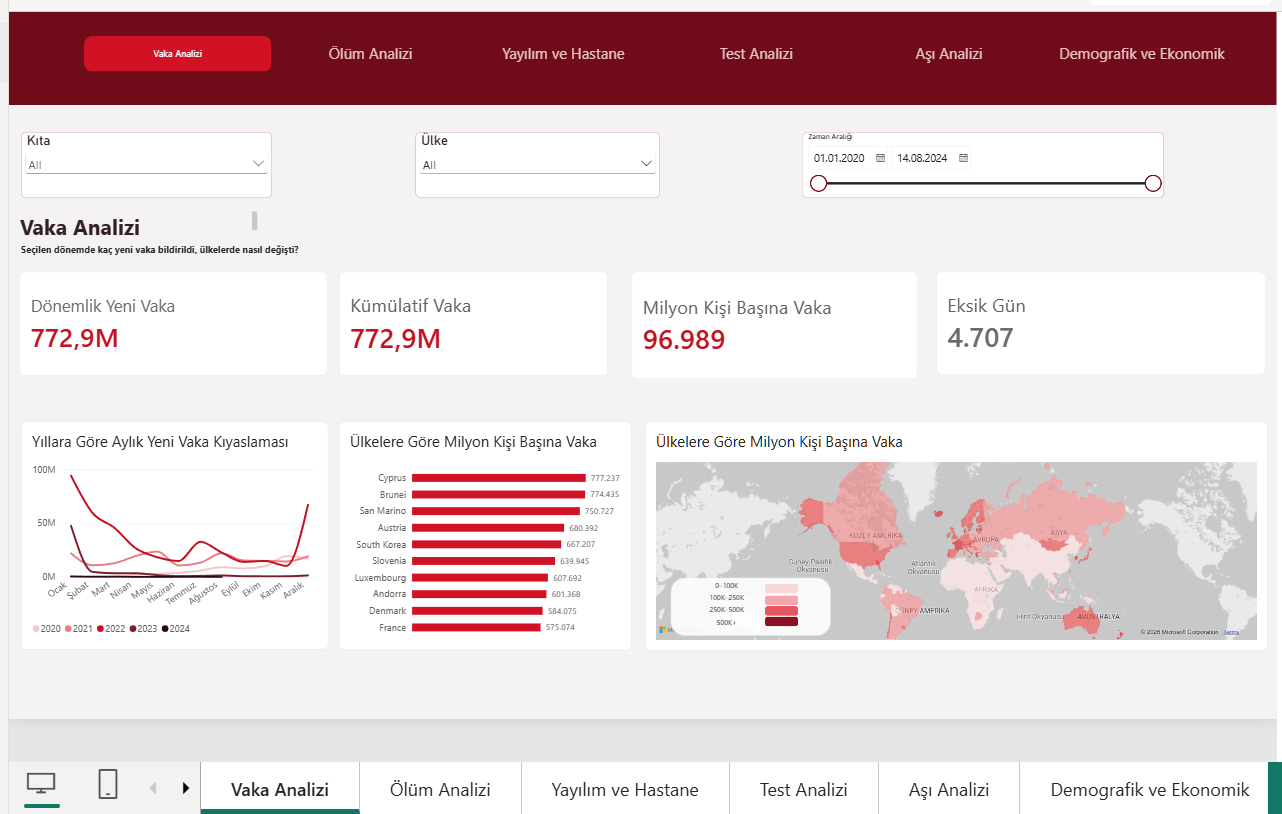

Layout of this report page (visuals, bound fields, positions):
{"tool":"powerbi","page":{"name":"Vaka analizi","canvas":[1920,1080],"ordinal":0},"visuals":[{"type":"shape","box":[0,0,1919.3,149.9],"z":0},{"type":"pageNavigator","box":[113.6,45.4,1744.4,54.5],"z":1000},{"type":"textbox","box":[0,215,1919,150],"z":2000},{"type":"textbox","box":[17.5,290,360,50],"z":3000},{"type":"textbox","box":[17.5,340,540,62.5],"z":4000},{"type":"slicer","fields":{"Values":["countries_clean.continent"]},"box":[17.5,190,380,100],"z":5000},{"type":"slicer","fields":{"Values":["countries_clean.location"]},"box":[615,190,370,100],"z":6000},{"type":"slicer","fields":{"Values":["Takvim.Date"]},"box":[1202.5,190,547.5,100],"z":7000},{"type":"cardVisual","fields":{"Data":["countries_clean.Dönemlik yeni vaka"]},"box":[17.5,397.5,465,165],"z":8000},{"type":"cardVisual","fields":{"Data":["countries_clean.Kümülatif vaka"]},"box":[500,397.5,407.5,165],"z":9000},{"type":"cardVisual","fields":{"Data":["countries_clean.Milyon kişi başına vaka"]},"box":[942.5,400,432.5,165],"z":10000},{"type":"cardVisual","fields":{"Data":["countries_clean.Eksik gün"]},"box":[1405,402.5,500,162.5],"z":11000},{"type":"lineChart","title":"Yıllara Göre Aylık Yeni Vaka Kıyaslaması","fields":{"Category":["Takvim.Ay"],"Series":["Takvim.Yıl"],"Y":["countries_clean.Dönemlik yeni vaka"]},"box":[17.5,630,465,345],"z":12000},{"type":"clusteredBarChart","title":"Ülkelere Göre Yeni Vaka Sıralaması","fields":{"Category":["countries_clean.location"],"Y":["countries_clean.Dönemlik yeni vaka"]},"box":[500,627.5,407.5,347.5],"z":13000},{"type":"filledMap","title":"Ülkelere Göre Yeni Vaka Yoğunluğu","fields":{"Category":["countries_clean.location"]},"box":[962.5,630,942.5,347.5],"z":14000},{"type":"shape","box":[985,852.5,280,90],"z":15000},{"type":"shape","box":[1195,857.5,50,15],"z":16000},{"type":"shape","box":[1195,872.5,51,15],"z":17000},{"type":"shape","box":[1195,887.5,50,15],"z":18000},{"type":"shape","box":[1195,902.5,50,15],"z":19000},{"type":"textbox","box":[1005,852.5,190,90],"z":19001}]}

Visuals, with their boxes on the page's 1920x1080 design canvas (x1, y1, x2, y2). These are canvas units, not pixel positions in the 1282x814 screenshot, which may show the page scaled, cropped or inside an application window:
shape: (0, 0, 1919, 150)
pageNavigator: (114, 45, 1858, 100)
textbox: (0, 215, 1919, 365)
textbox: (18, 290, 378, 340)
textbox: (18, 340, 558, 402)
slicer - countries_clean.continent: (18, 190, 398, 290)
slicer - countries_clean.location: (615, 190, 985, 290)
slicer - Takvim.Date: (1202, 190, 1750, 290)
cardVisual - countries_clean.Dönemlik yeni vaka: (18, 398, 482, 562)
cardVisual - countries_clean.Kümülatif vaka: (500, 398, 908, 562)
cardVisual - countries_clean.Milyon kişi başına vaka: (942, 400, 1375, 565)
cardVisual - countries_clean.Eksik gün: (1405, 402, 1905, 565)
"Yıllara Göre Aylık Yeni Vaka Kıyaslaması" lineChart: (18, 630, 482, 975)
"Ülkelere Göre Yeni Vaka Sıralaması" clusteredBarChart: (500, 628, 908, 975)
"Ülkelere Göre Yeni Vaka Yoğunluğu" filledMap: (962, 630, 1905, 978)
shape: (985, 852, 1265, 942)
shape: (1195, 858, 1245, 872)
shape: (1195, 872, 1246, 888)
shape: (1195, 888, 1245, 902)
shape: (1195, 902, 1245, 918)
textbox: (1005, 852, 1195, 942)
